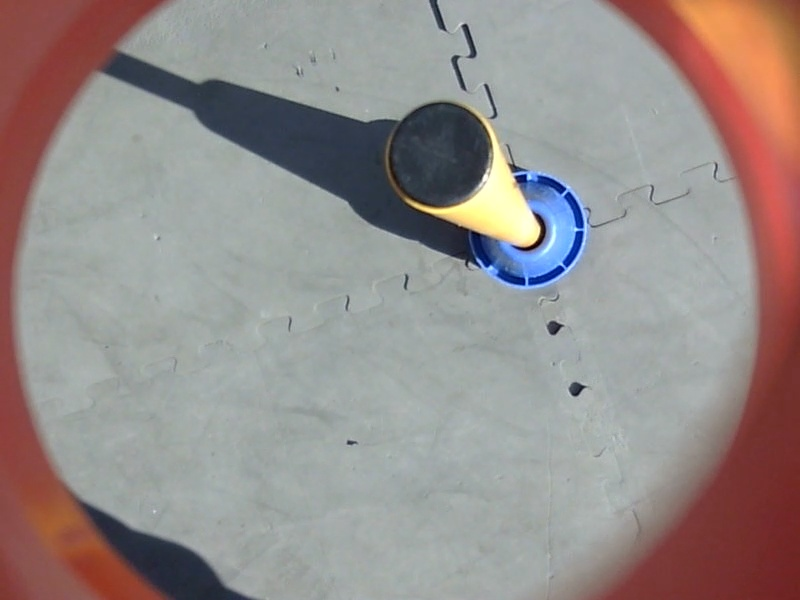tip: (379, 96, 500, 218)
